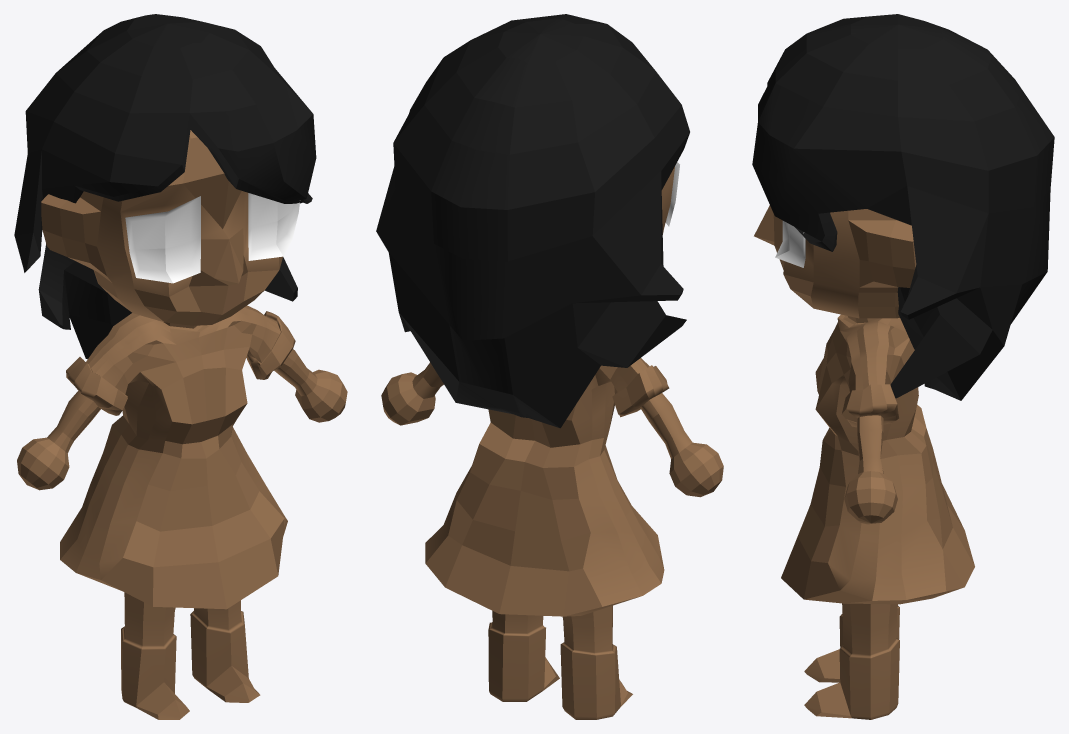
Rendered from PenelopeUpdated.fbx.
3 views of the same model, side by side, from view 1: azimuth 30°, elevation 25°; view 2: azimuth 150°, elevation 25°; view 3: azimuth 270°, elevation 25° (orthographic). The views are drawn at different scales.
Visible parts, largest first — view 1: Penelope (×3); view 2: Penelope (×2); view 3: Penelope (×3).
Boxes of the visible parts, bbox=[...] form: Penelope (×3): bbox=[14, 14, 347, 719]; Penelope (×2): bbox=[376, 14, 723, 719]; Penelope (×3): bbox=[752, 14, 1054, 719].
Size of the model in its own units: 87.5 by 170 by 69.86.
